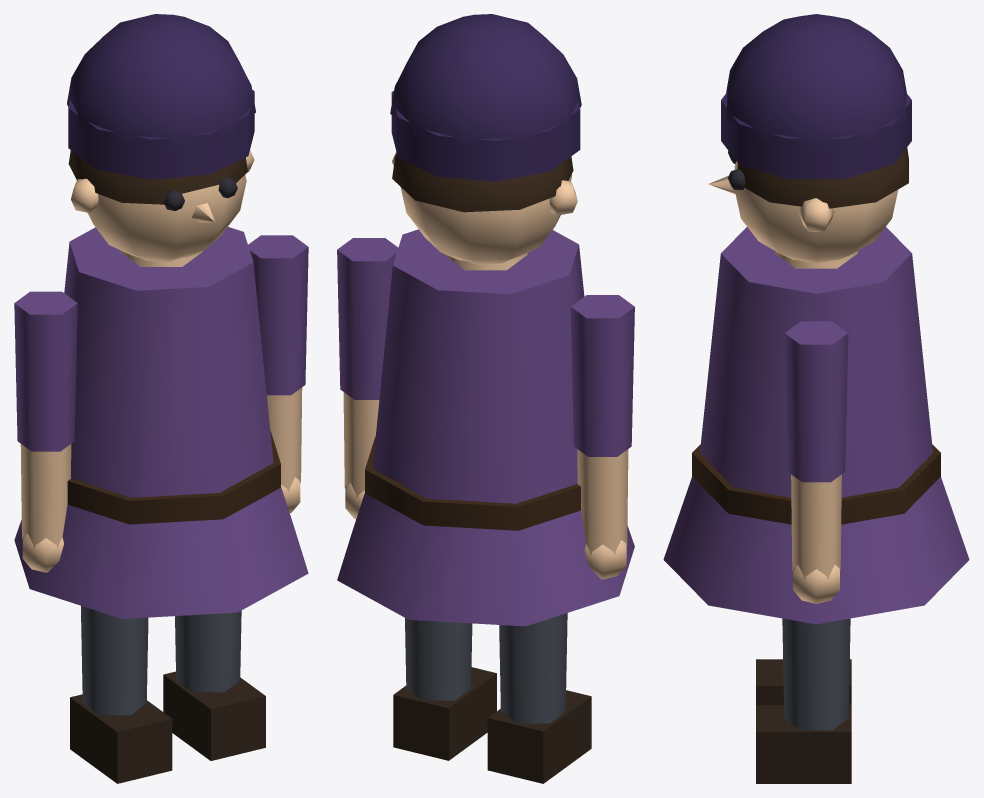
File: w_schneider.glb
The picture shows the model from 3 angles, left to right: view 1: azimuth 30°, elevation 25°; view 2: azimuth 150°, elevation 25°; view 3: azimuth 270°, elevation 25°; orthographic projection.
Parts seen in each view (by area): view 1: worker, arm_l, leg_l, leg_r, arm_r; view 2: worker, arm_l, leg_l, leg_r, arm_r; view 3: worker, arm_r, leg_r, leg_l.
Boxes of the visible parts, x1,y1,x2,y2 form: worker: (14,14,308,618); arm_l: (14,291,77,572); leg_l: (70,606,172,783); leg_r: (163,610,265,760); arm_r: (248,235,308,513); worker: (337,14,634,626); arm_l: (570,295,634,579); leg_l: (487,613,591,783); leg_r: (393,618,496,760); arm_r: (337,238,398,519); worker: (663,14,969,624); arm_r: (784,321,848,603); leg_r: (756,618,851,783); leg_l: (756,659,851,704).
Bounding box in the file's own units: 0.4053 × 1 × 0.384.
